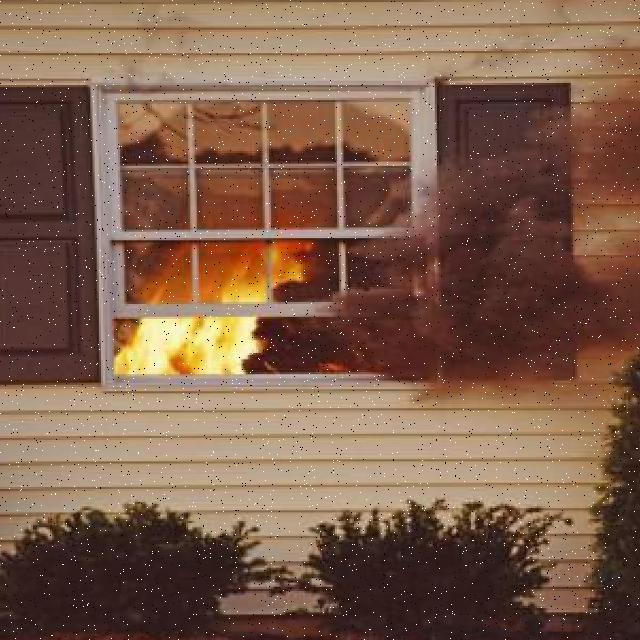fire: (120, 217, 292, 389)
smoke: (456, 232, 640, 408), (297, 230, 454, 406), (424, 132, 640, 234), (537, 19, 640, 132)
